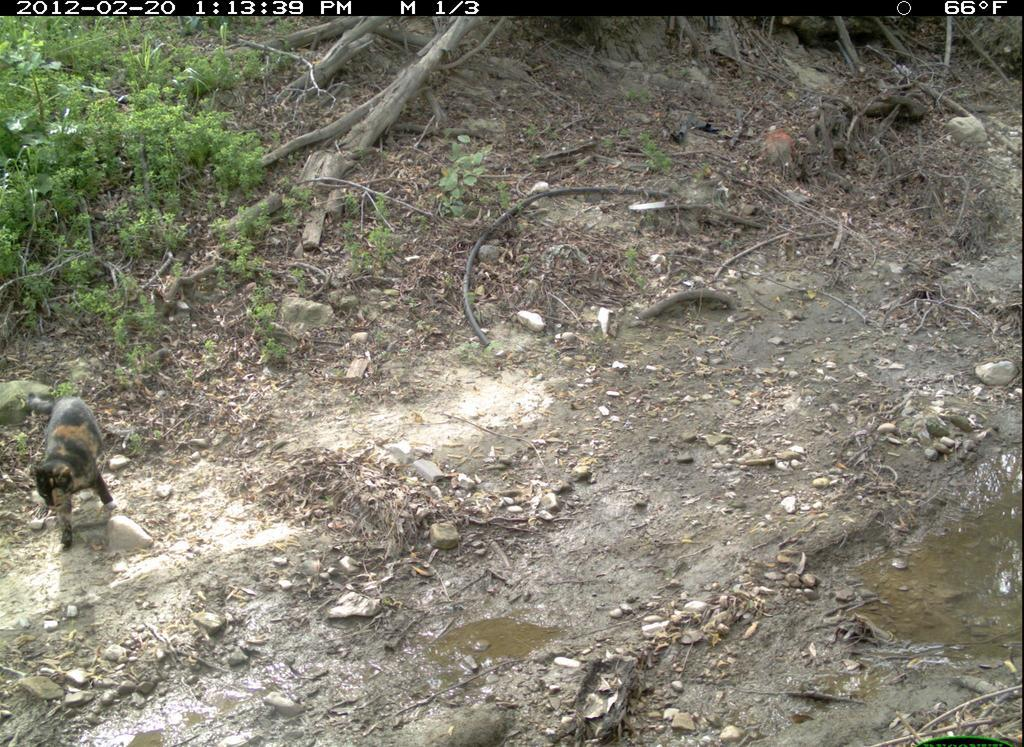cat: (27, 367, 130, 598)
